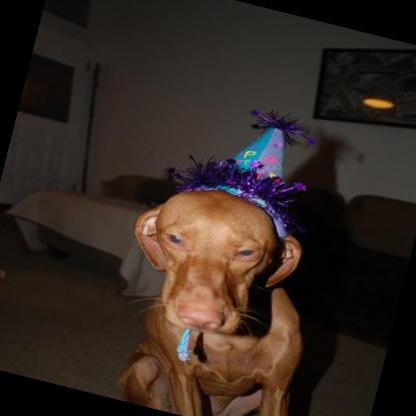vizsla: (88, 174, 335, 416)
